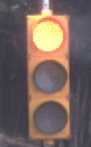Red: (20, 9, 73, 141)
